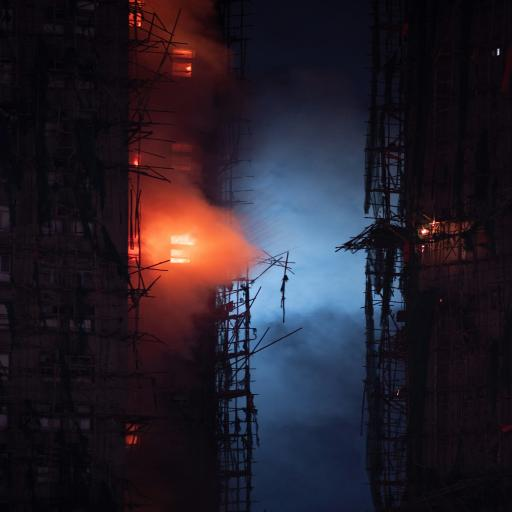buildingfire: (82, 7, 240, 455)
